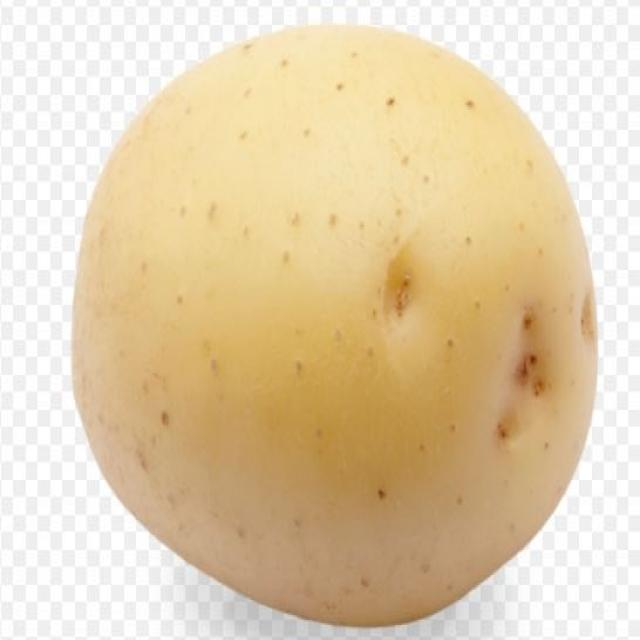potato: (71, 26, 598, 626)
